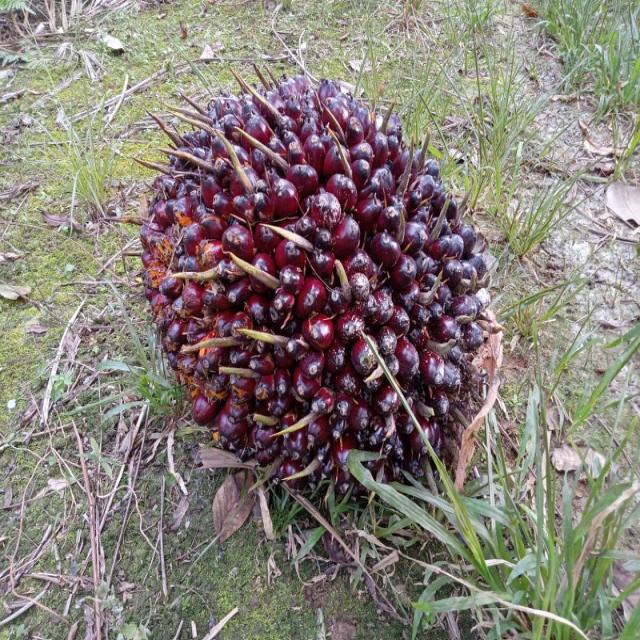fraksi 1: (140, 78, 482, 496)
